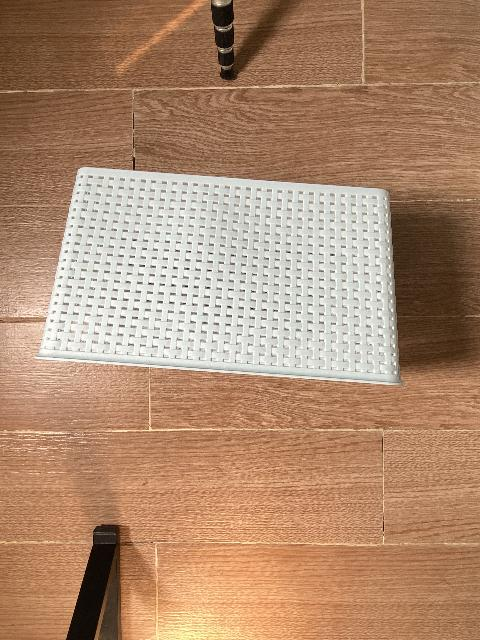cart: (31, 167, 403, 386)
